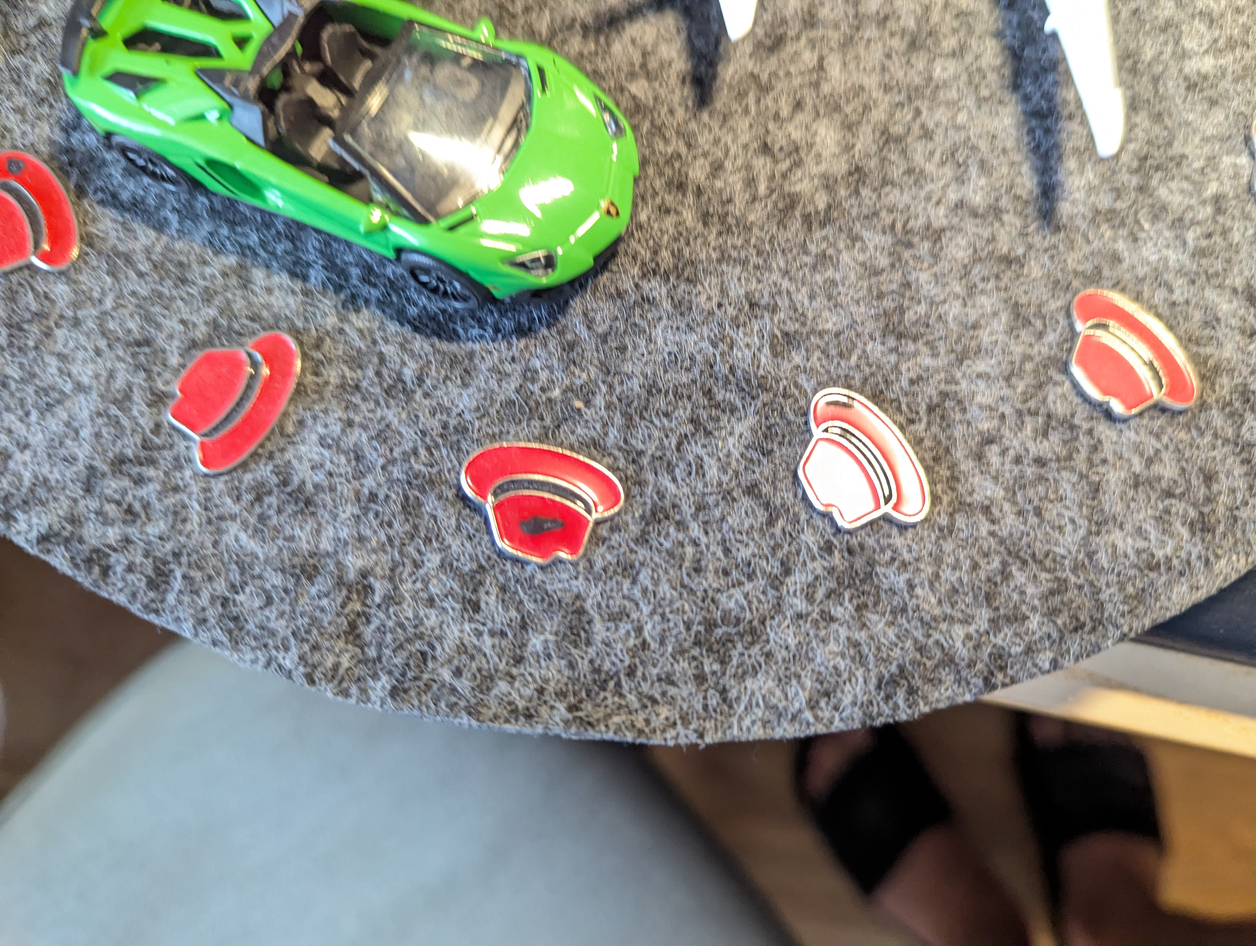Car: (43, 0, 658, 316)
Red-Hat: (450, 424, 674, 603), (782, 369, 963, 572), (153, 310, 325, 493), (1048, 266, 1211, 444), (0, 144, 94, 283)
Scratch: (511, 506, 594, 553), (0, 149, 42, 180), (814, 387, 864, 412)
